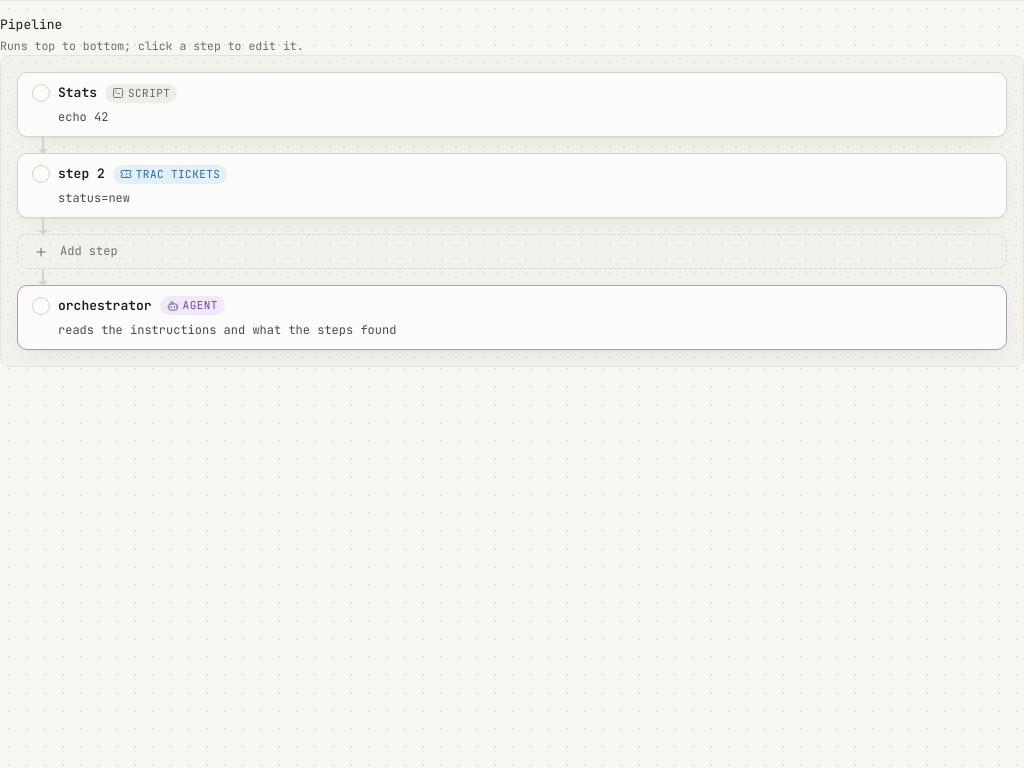
Test: StepsField › keeps a source above the agent
Click the button "step 2 Trac tickets status=new".
click(81, 174)  # box [17,153,1007,218]
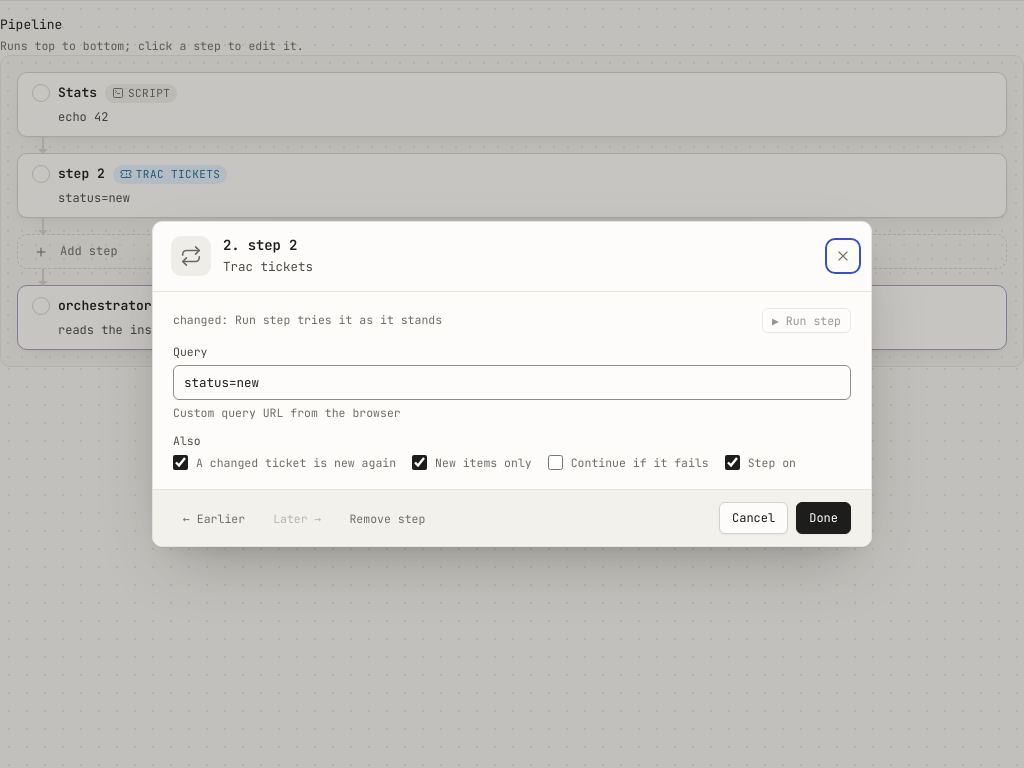
Expected: the button "Later →" is disabled, [263,506,331,531]
